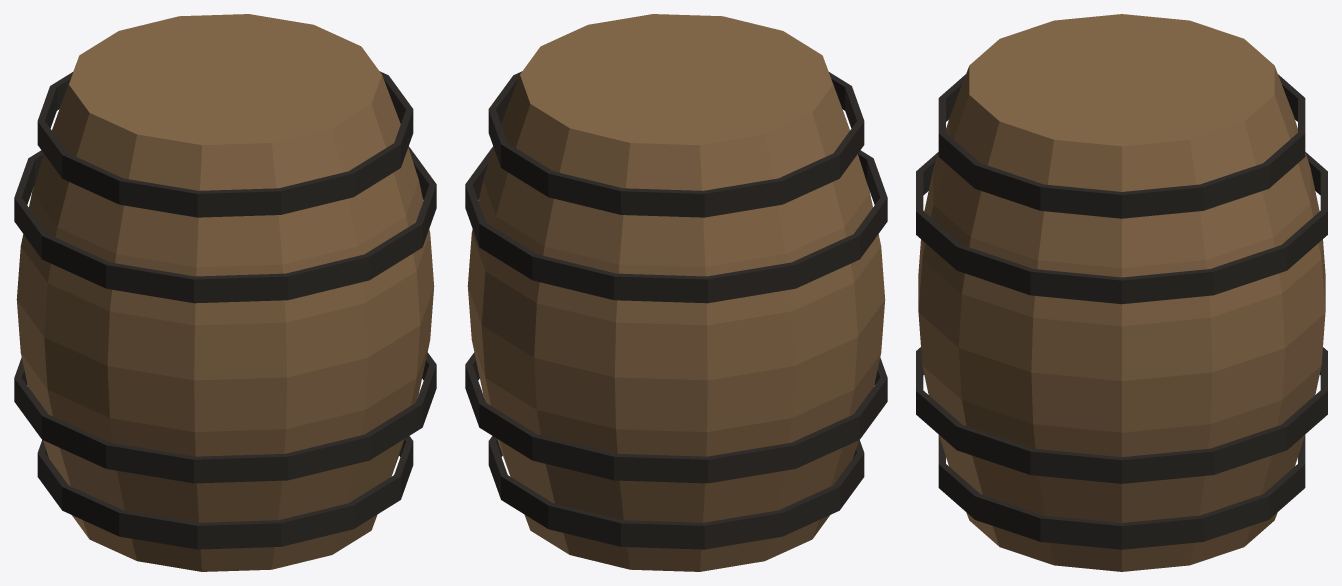
File: decorativos-barril.glb
The picture shows the model from 3 angles, left to right: view 1: azimuth 30°, elevation 25°; view 2: azimuth 150°, elevation 25°; view 3: azimuth 270°, elevation 25°; orthographic projection.
Visible parts, largest first — view 1: barril_Madera, barril_Hierro; view 2: barril_Madera, barril_Hierro; view 3: barril_Madera, barril_Hierro.
Part boxes in pixels (<box>): barril_Madera: <box>16,14,434,571</box>; barril_Hierro: <box>14,71,436,549</box>; barril_Madera: <box>467,14,885,571</box>; barril_Hierro: <box>465,71,887,549</box>; barril_Madera: <box>918,14,1325,571</box>; barril_Hierro: <box>916,74,1327,549</box>.
Bounding box in the file's own units: 0.8096 × 0.9 × 0.7893.
